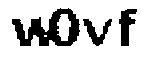0: (50, 8, 83, 50)
f: (116, 5, 144, 52)
v: (82, 16, 113, 48)
w: (8, 16, 52, 48)
